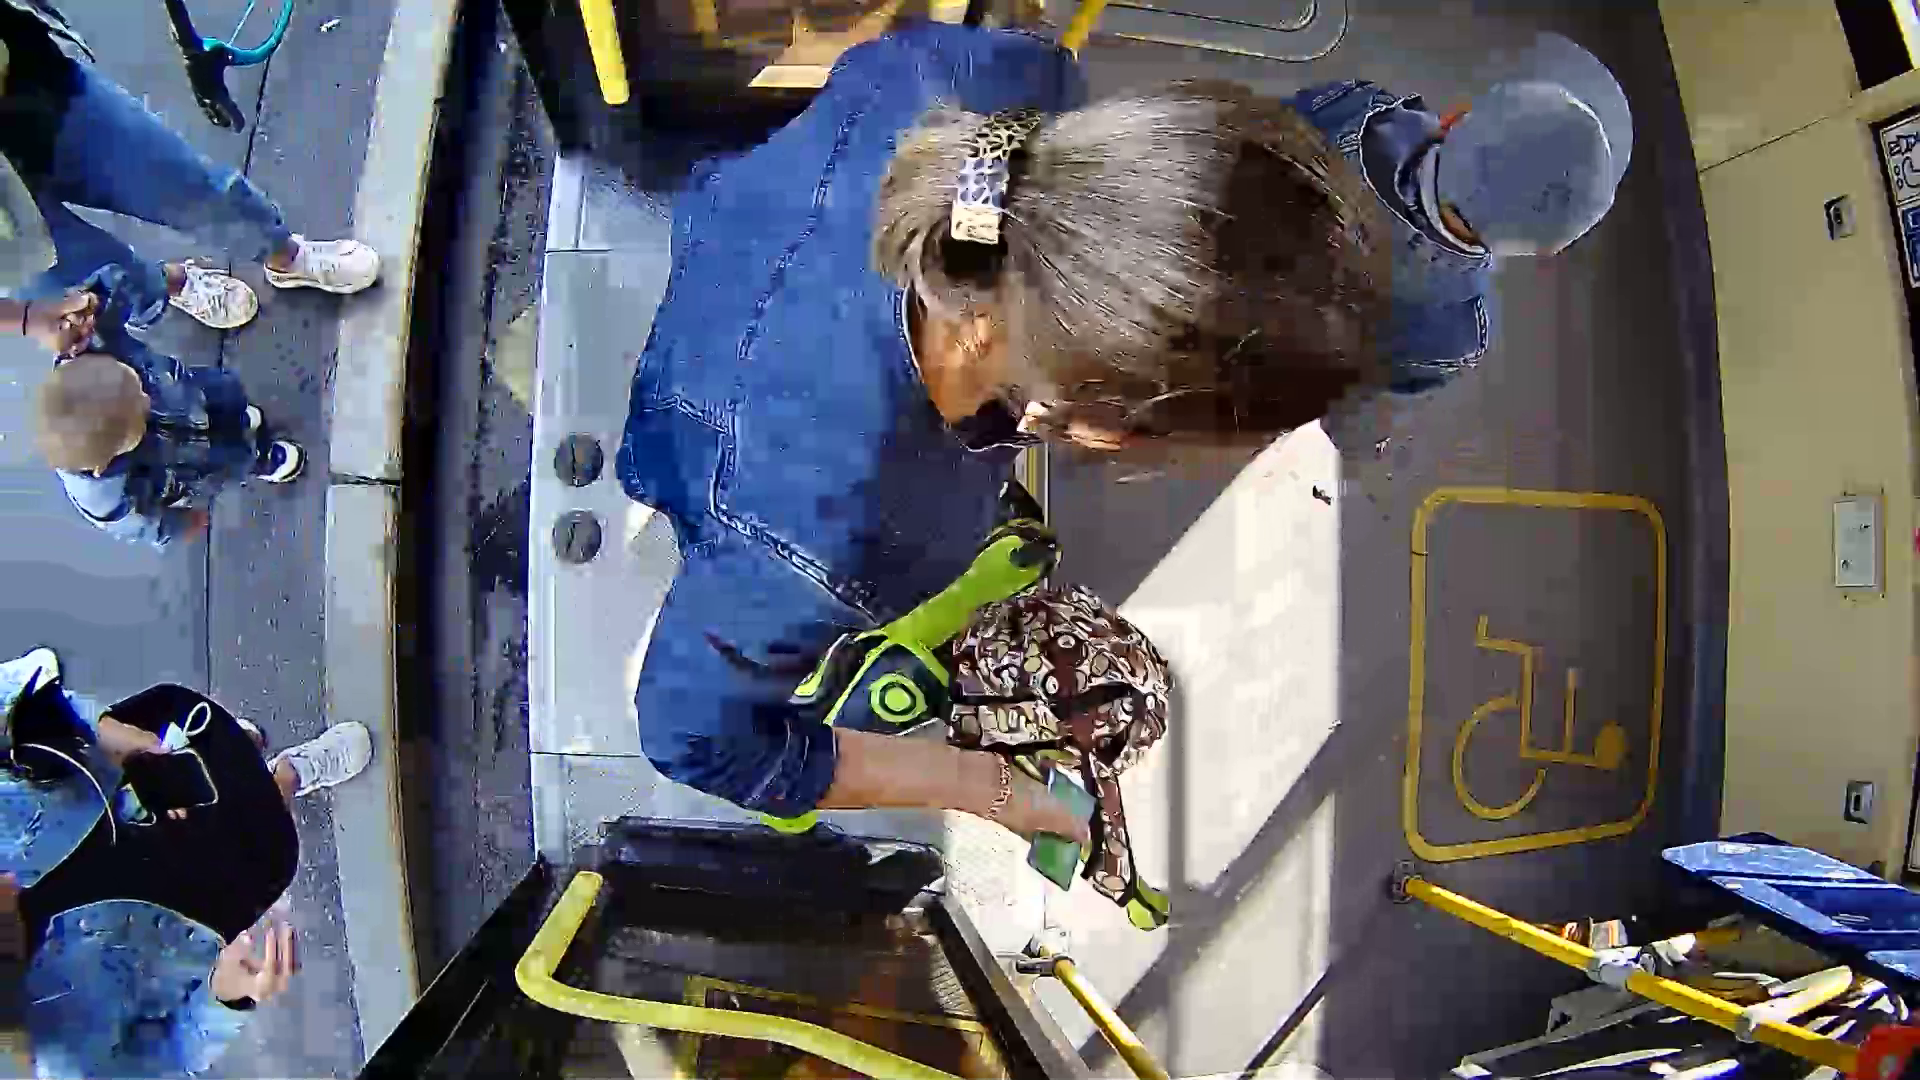person: (604, 64, 1571, 777), (24, 292, 543, 529)
